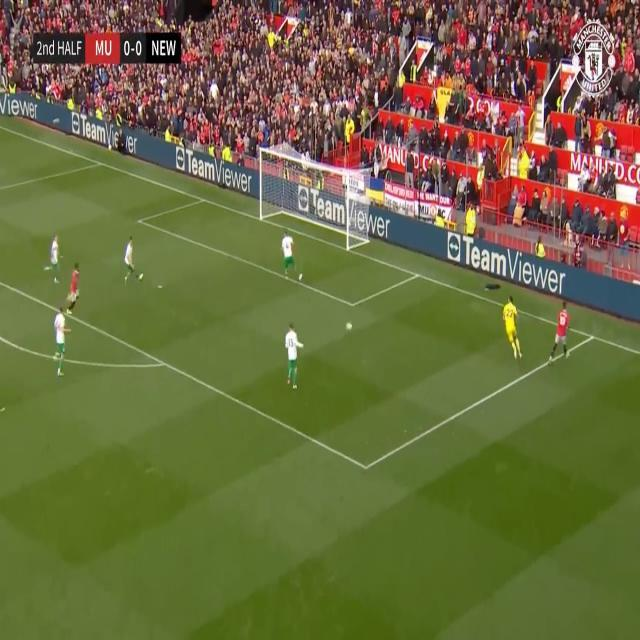TeamViewer: (449, 230, 566, 298), (299, 184, 390, 242), (177, 145, 252, 196), (73, 111, 138, 156), (1, 94, 38, 122)
